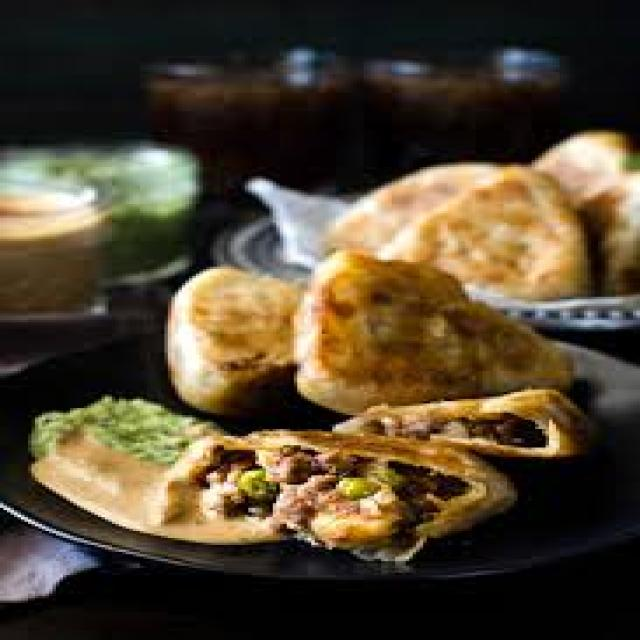SAMOSA: (297, 250, 567, 413), (192, 431, 514, 559), (416, 167, 588, 299), (164, 267, 301, 413), (329, 165, 497, 250), (532, 130, 626, 199)
